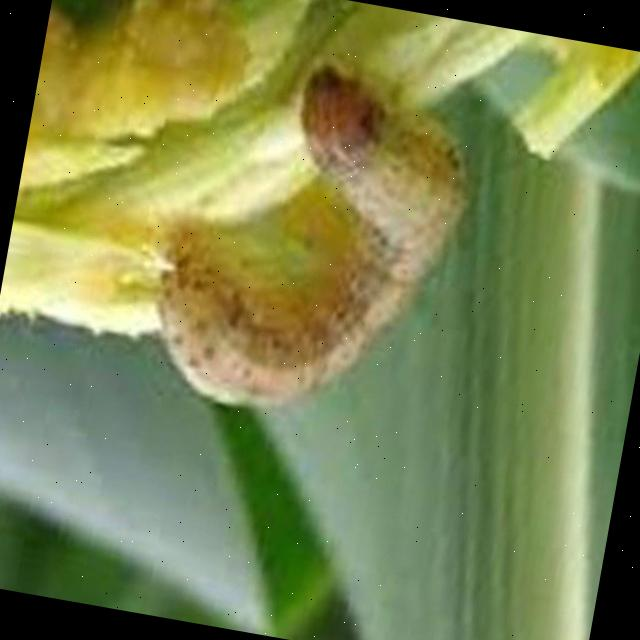worm: (136, 42, 489, 444)
